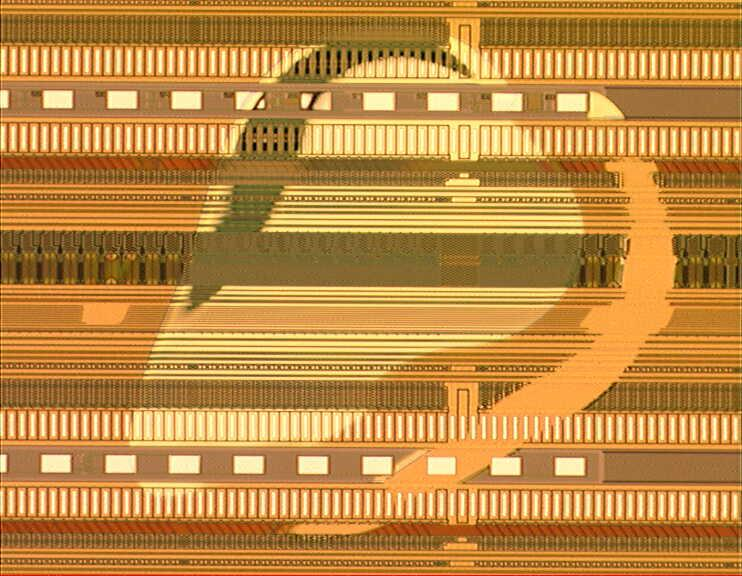BLOCK ETCH: (81, 26, 685, 537)
